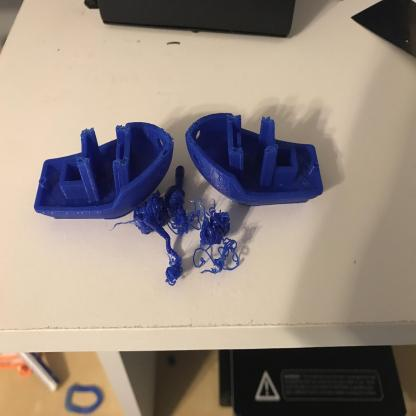fail: (160, 192, 245, 297)
